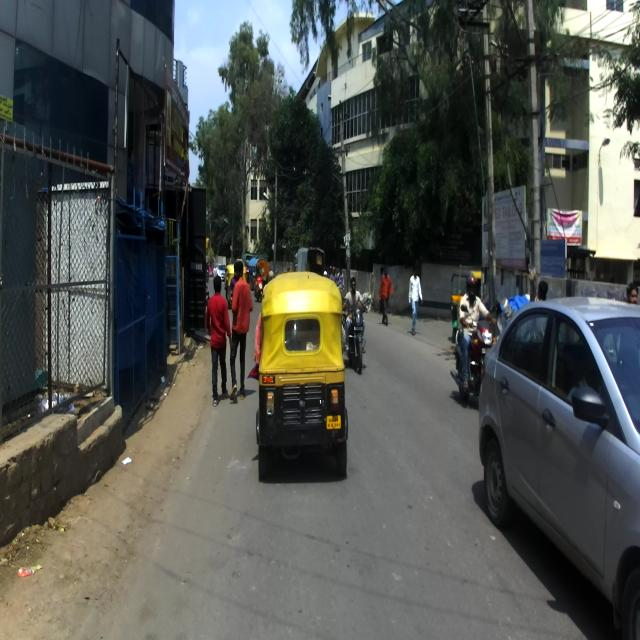auto ahead at: (260, 278, 344, 470)
car ahead at: (481, 297, 640, 640)
